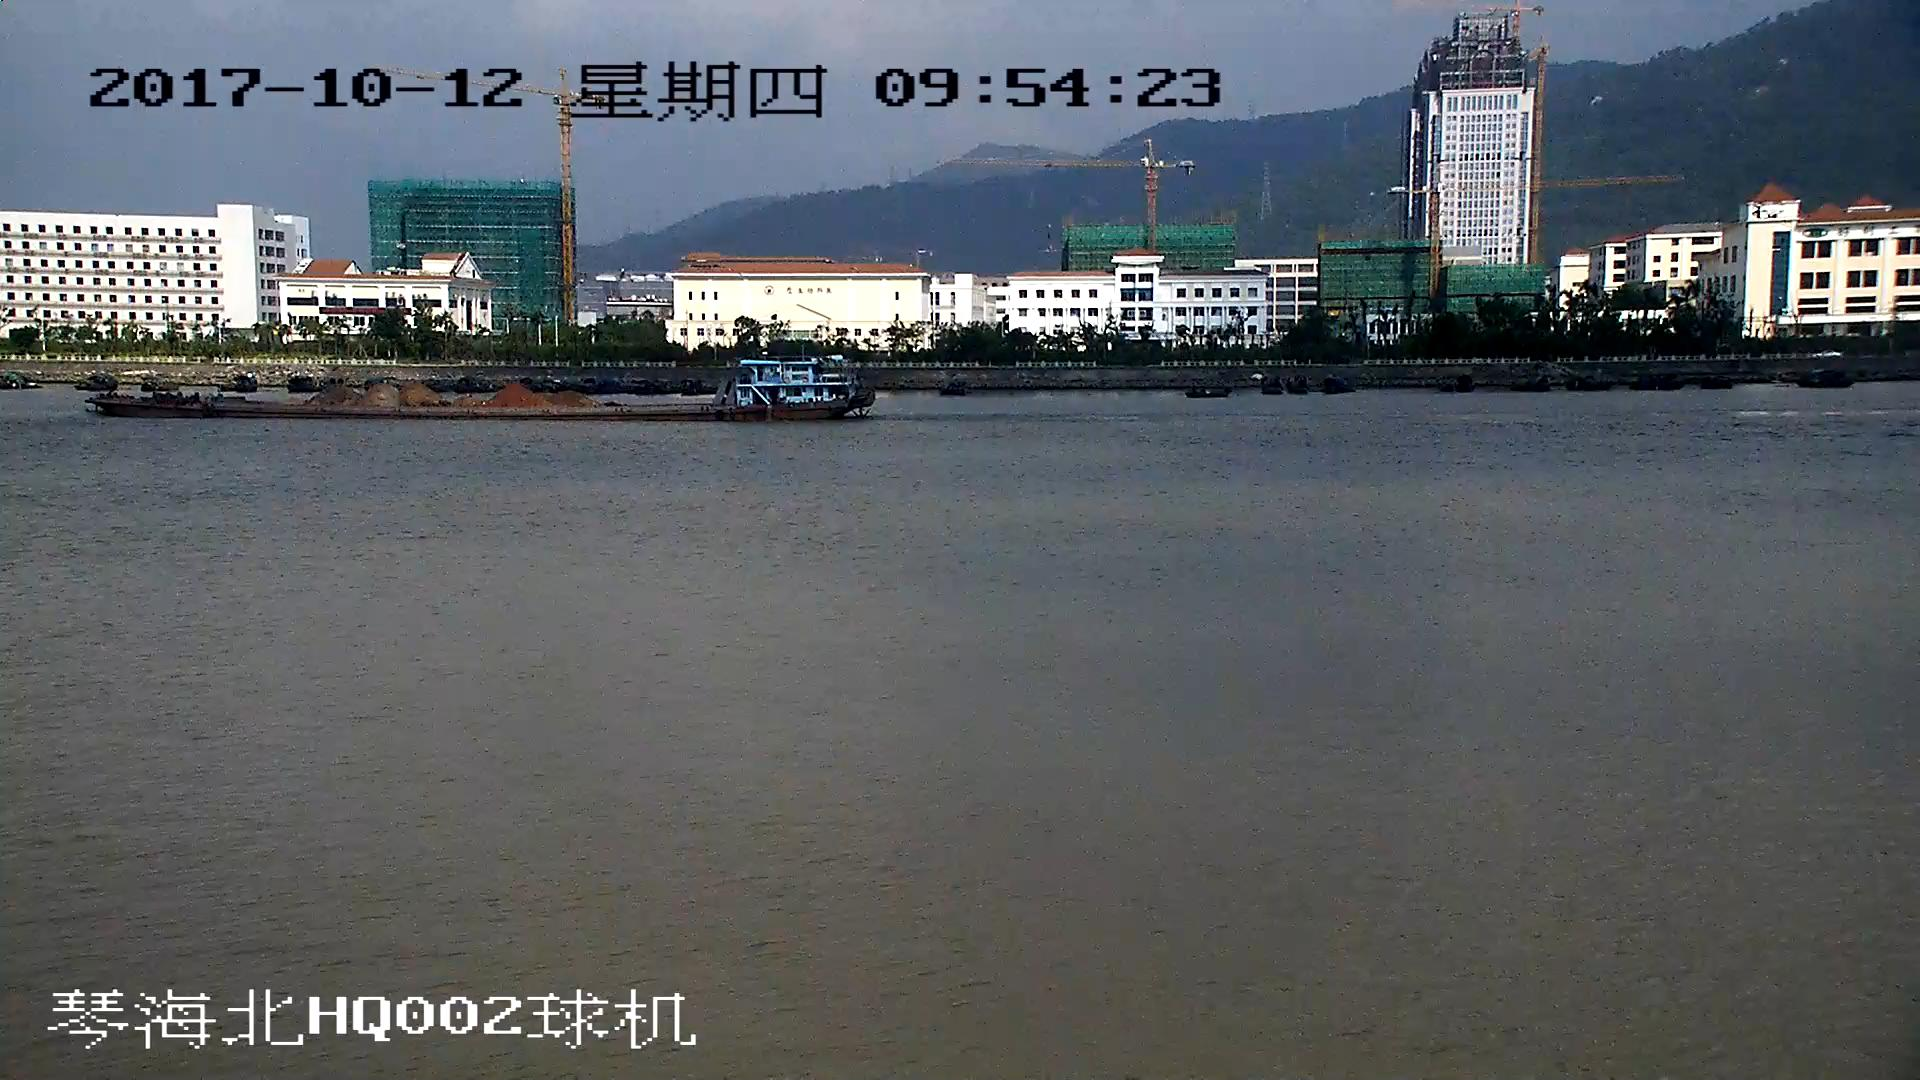ore carrier: (96, 358, 863, 421)
